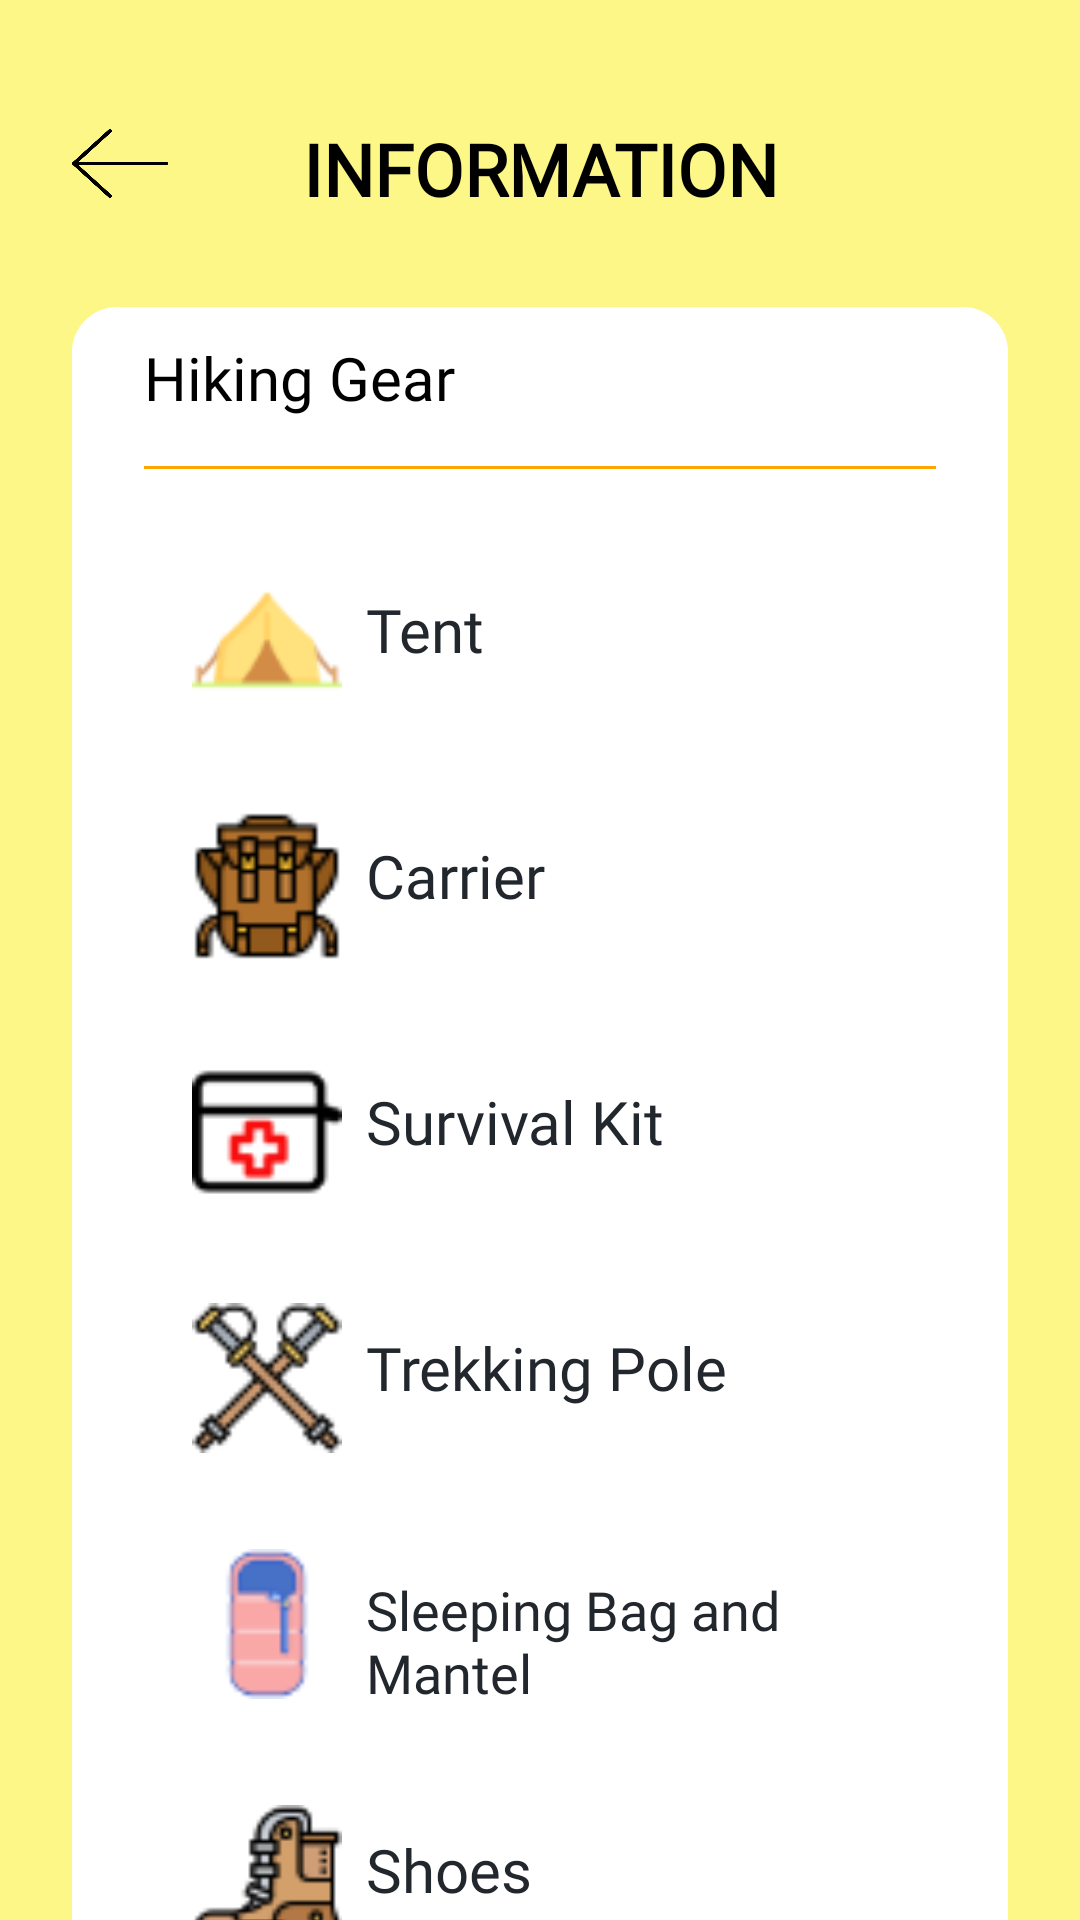

Where icons sit on this 1080 x 1920 app screen, as (x1,y1,x2,y2):
buttonback: (72,129,168,198)
tenda: (192,592,342,688)
